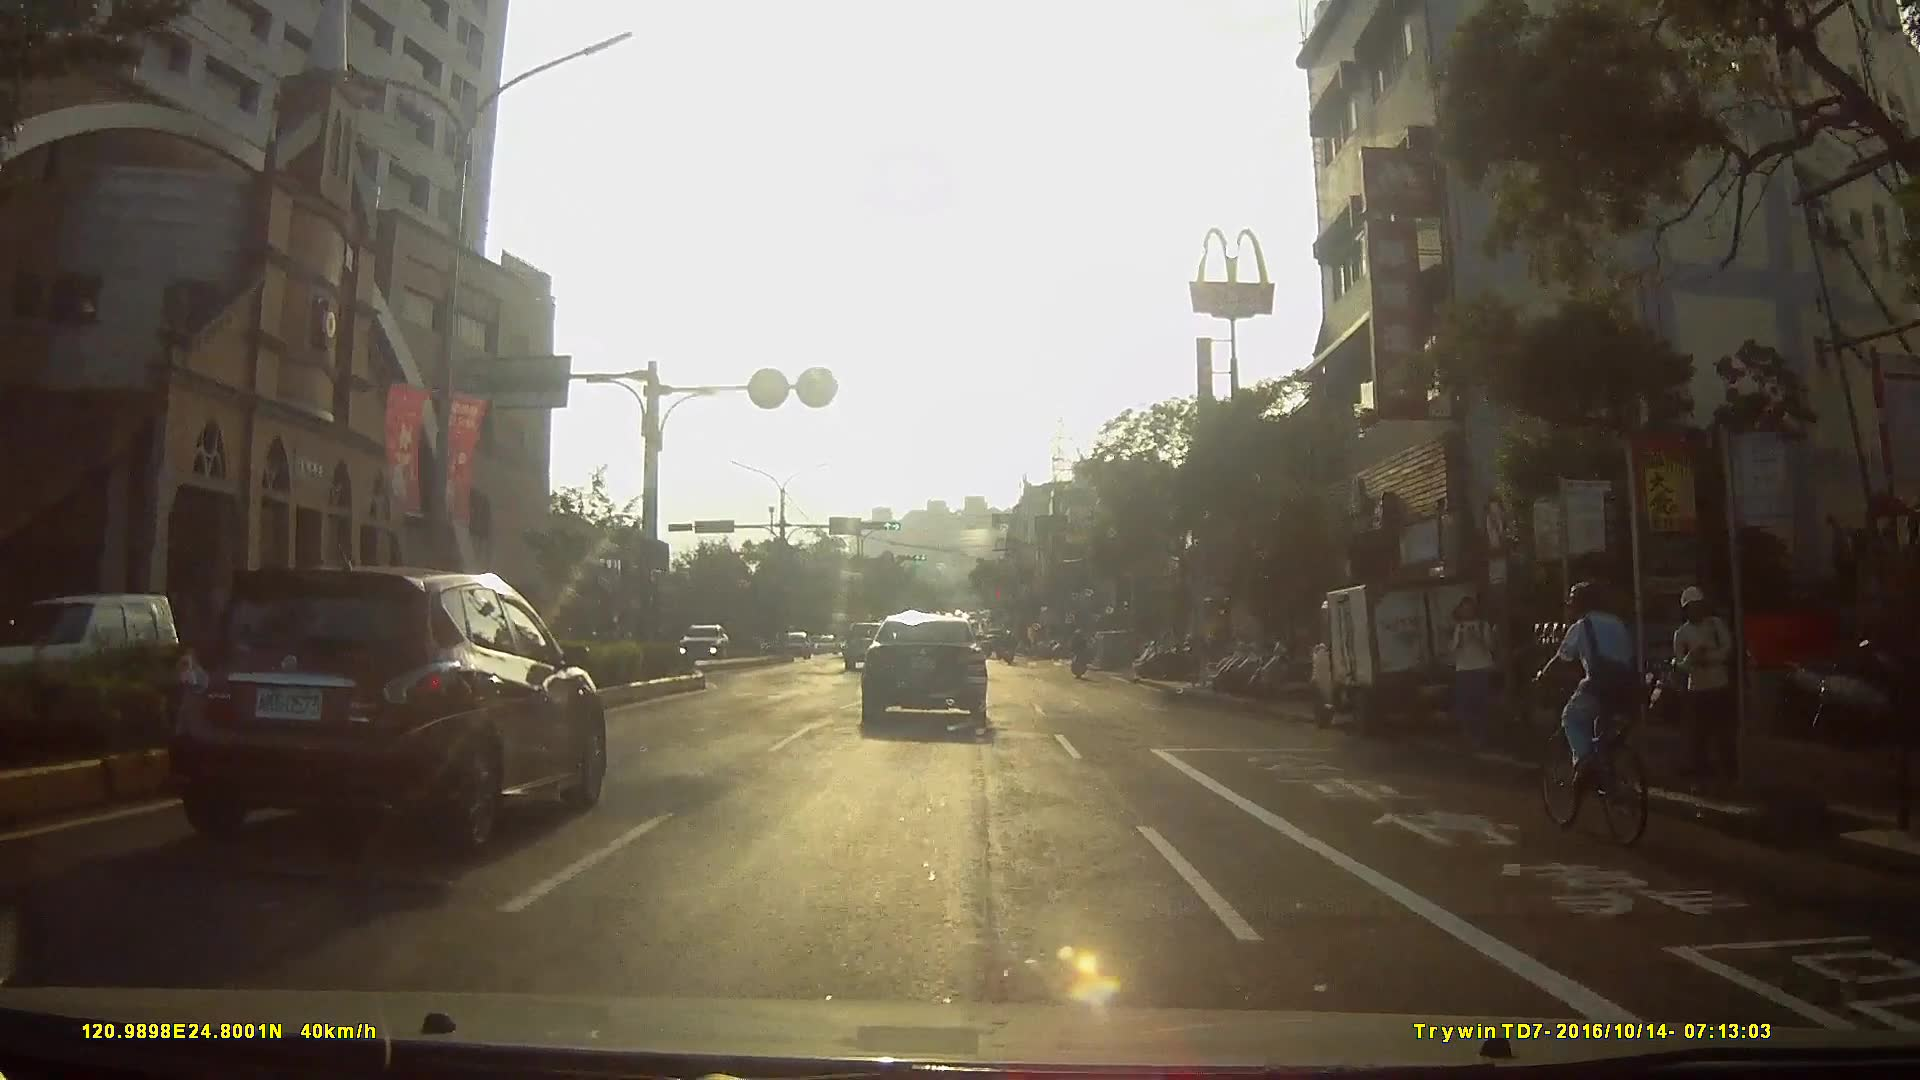pedestrian: (1673, 582, 1741, 796), (1447, 593, 1501, 761)
rider: (1527, 574, 1658, 852), (1069, 626, 1094, 685)
vehicle: (148, 562, 622, 854), (1294, 567, 1499, 750), (861, 611, 1005, 736), (838, 617, 897, 672), (669, 622, 731, 669), (765, 629, 803, 664)
